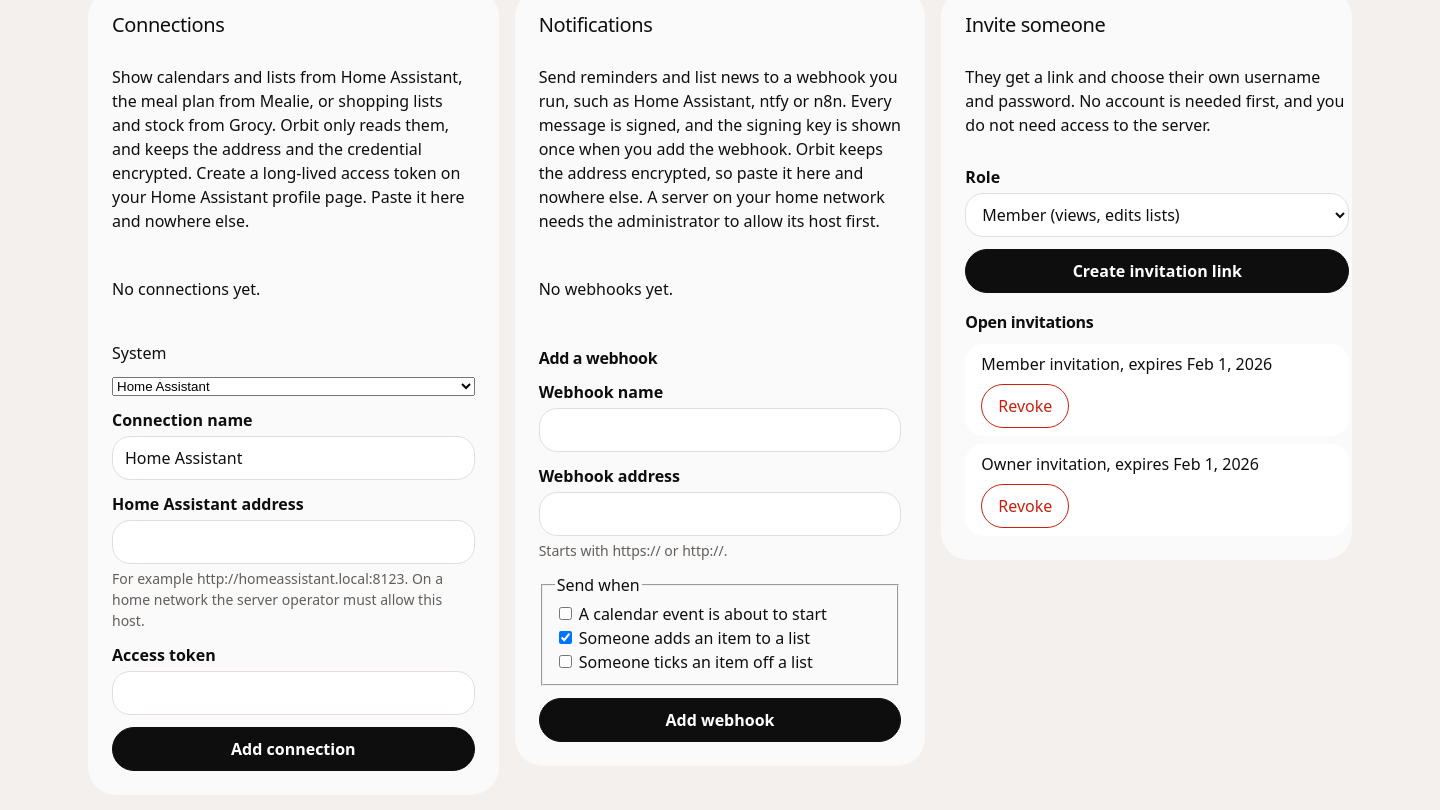
Test: invitations panel › revokes an open invitation
(page scrolled)
Click the button with aria-label "Revoke invitation 1" at (1025, 406), box [981,384,1069,428]
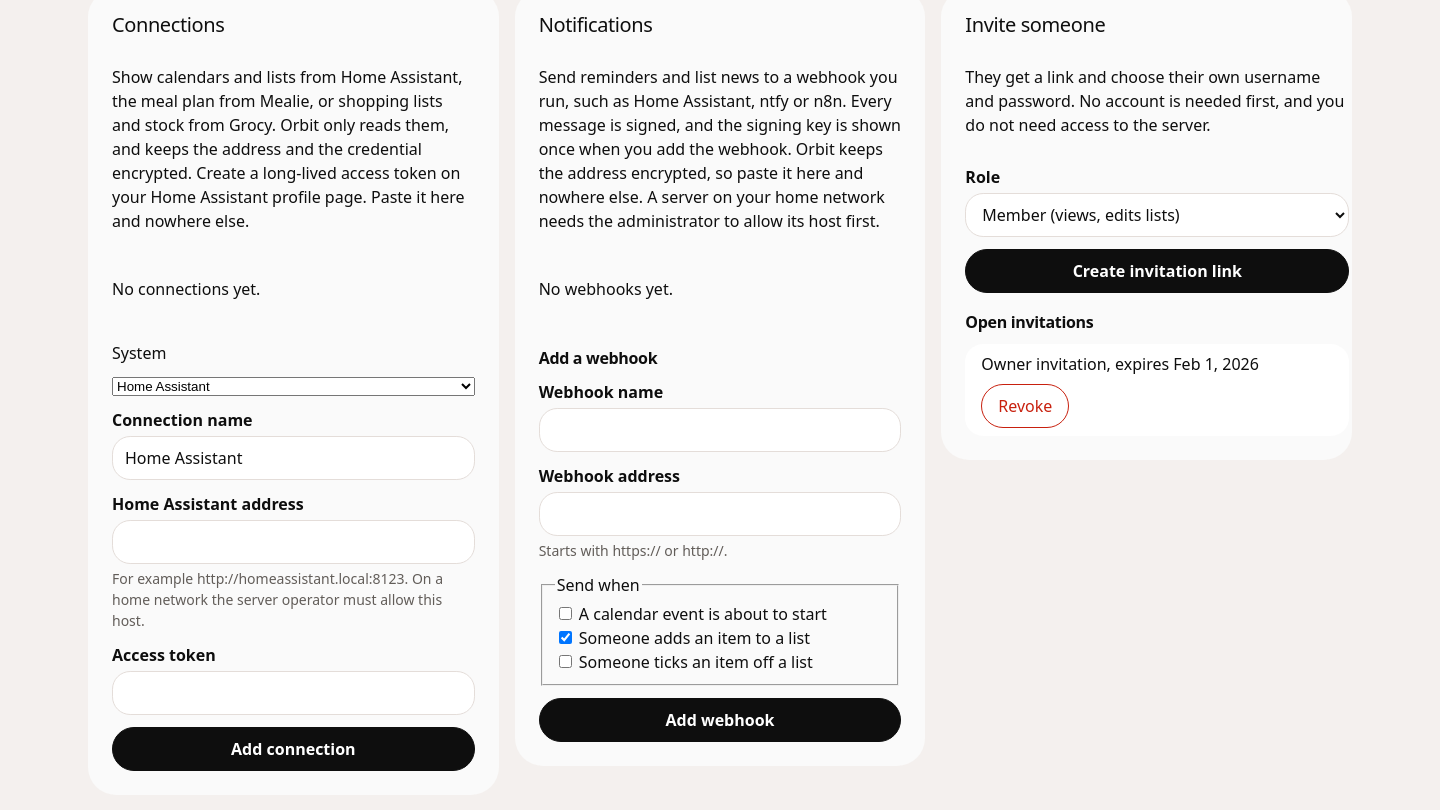
Check: the list item "Owner invitation, expires Feb 1, 2026 Revoke" is shown, box [965,344,1349,436]
Check: the list item "Member invitation" is gone
